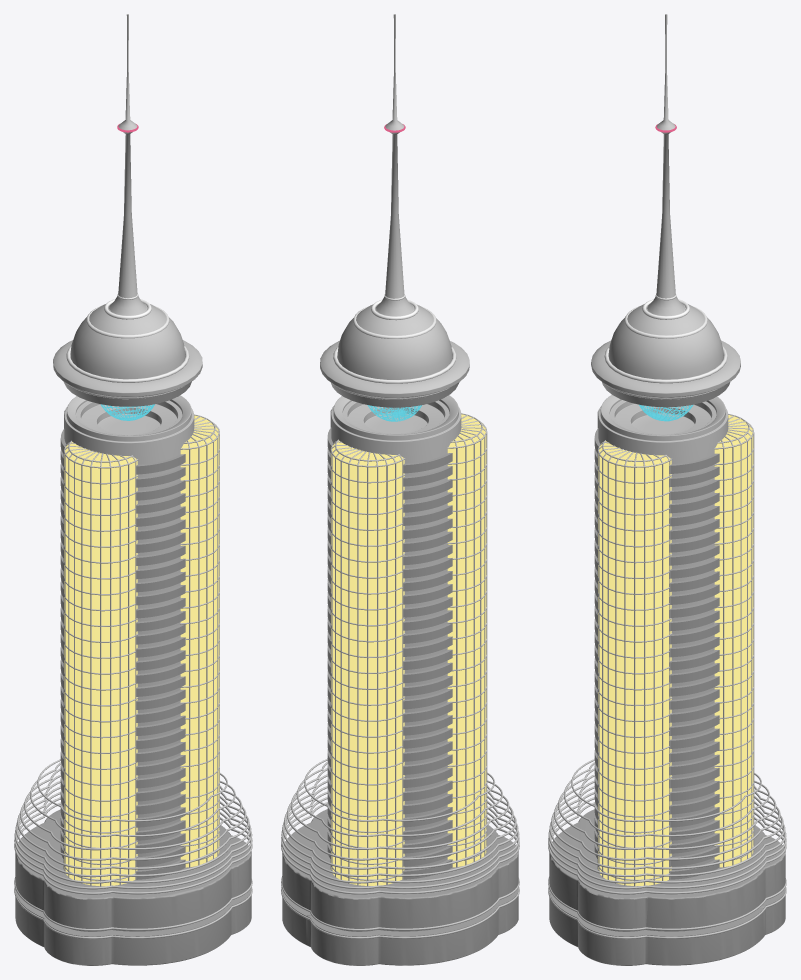
3 views of the same model, side by side, from view 1: azimuth 30°, elevation 25°; view 2: azimuth 150°, elevation 25°; view 3: azimuth 270°, elevation 25° (orthographic).
Visible parts, largest first — view 1: Cylinder_0_4_3_Windows_0, Boole_3_Antenna_03_0, Cylinder_0_4_2_Windows_0, Cylinder_2_8_Base_01_0, MainBody_13_Base_01_0, Dome_2_Base_01_0, Cylinder_1_10_Base_01_0, Peak_2_Base_01_0, BasementSpline_0_2_3_Base_01_0, BasementSpline_0_2_Base_01_0, BasementSpline_0_2_4_Base_01_0, BasementSpline_0_2_5_Base_01_0 (+37 smaller); view 2: Cylinder_0_4_Windows_0, Boole_3_Antenna_03_0, Cylinder_0_4_3_Windows_0, Cylinder_0_3_Base_01_0, MainBody_13_Base_01_0, Dome_2_Base_01_0, Cylinder_2_8_Base_01_0, Peak_2_Base_01_0, BasementSpline_0_2_4_Base_01_0, BasementSpline_0_2_3_Base_01_0, BasementSpline_0_2_2_Base_01_0, BasementSpline_0_2_5_Base_01_0 (+37 smaller); view 3: Cylinder_0_4_2_Windows_0, Boole_3_Antenna_03_0, Cylinder_0_4_Windows_0, Cylinder_1_10_Base_01_0, MainBody_13_Base_01_0, Dome_2_Base_01_0, Cylinder_0_3_Base_01_0, Peak_2_Base_01_0, BasementSpline_0_2_2_Base_01_0, BasementSpline_0_2_3_Base_01_0, BasementSpline_0_2_4_Base_01_0, BasementSpline_0_2_Base_01_0 (+37 smaller).
Boxes of the visible parts, x1,y1,x2,y2 form: Cylinder_0_4_3_Windows_0: [64, 442, 137, 886]; Boole_3_Antenna_03_0: [15, 809, 251, 965]; Cylinder_0_4_2_Windows_0: [180, 415, 219, 867]; Cylinder_2_8_Base_01_0: [63, 440, 138, 886]; MainBody_13_Base_01_0: [64, 395, 194, 870]; Dome_2_Base_01_0: [53, 303, 202, 406]; Cylinder_1_10_Base_01_0: [180, 414, 219, 867]; Peak_2_Base_01_0: [109, 14, 146, 315]; BasementSpline_0_2_3_Base_01_0: [14, 792, 252, 883]; BasementSpline_0_2_Base_01_0: [14, 802, 252, 894]; BasementSpline_0_2_4_Base_01_0: [15, 786, 251, 877]; BasementSpline_0_2_5_Base_01_0: [17, 780, 249, 869]; Cylinder_0_4_Windows_0: [331, 440, 404, 885]; Boole_3_Antenna_03_0: [282, 809, 518, 965]; Cylinder_0_4_3_Windows_0: [447, 414, 486, 867]; Cylinder_0_3_Base_01_0: [330, 439, 405, 886]; MainBody_13_Base_01_0: [331, 395, 461, 869]; Dome_2_Base_01_0: [320, 304, 469, 407]; Cylinder_2_8_Base_01_0: [447, 413, 487, 867]; Peak_2_Base_01_0: [376, 14, 413, 316]; BasementSpline_0_2_4_Base_01_0: [282, 786, 518, 876]; BasementSpline_0_2_3_Base_01_0: [281, 791, 519, 883]; BasementSpline_0_2_2_Base_01_0: [281, 797, 519, 888]; BasementSpline_0_2_5_Base_01_0: [284, 780, 516, 869]; Cylinder_0_4_2_Windows_0: [598, 441, 671, 886]; Boole_3_Antenna_03_0: [549, 809, 785, 965]; Cylinder_0_4_Windows_0: [714, 415, 753, 867]; Cylinder_1_10_Base_01_0: [597, 440, 672, 886]; MainBody_13_Base_01_0: [598, 395, 728, 869]; Dome_2_Base_01_0: [591, 304, 740, 407]; Cylinder_0_3_Base_01_0: [714, 413, 754, 867]; Peak_2_Base_01_0: [647, 14, 684, 315]; BasementSpline_0_2_2_Base_01_0: [548, 797, 786, 889]; BasementSpline_0_2_3_Base_01_0: [548, 791, 786, 883]; BasementSpline_0_2_4_Base_01_0: [549, 786, 785, 876]; BasementSpline_0_2_Base_01_0: [548, 802, 786, 894].
Bounding box in the file's own units: 31.46 × 138 × 33.02.
